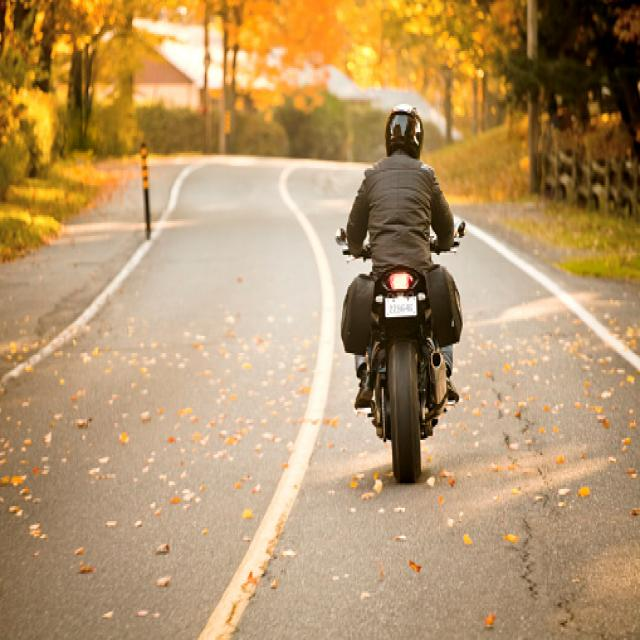With Helmet: (327, 99, 479, 488)
